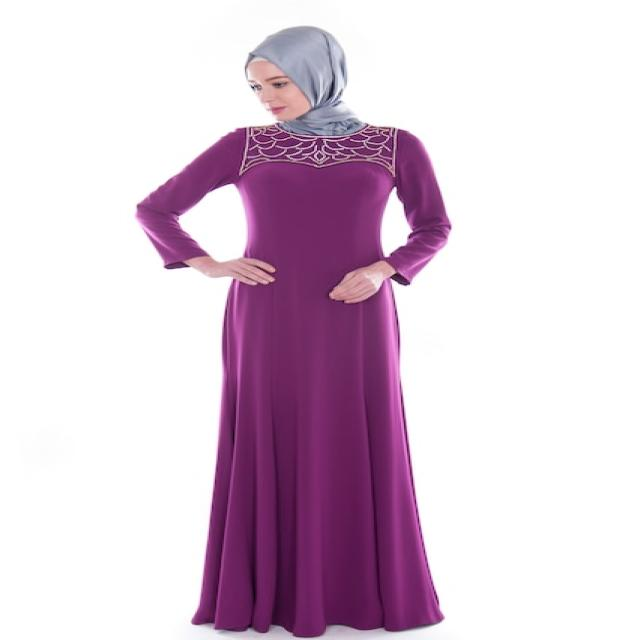Person: (137, 26, 451, 639)
